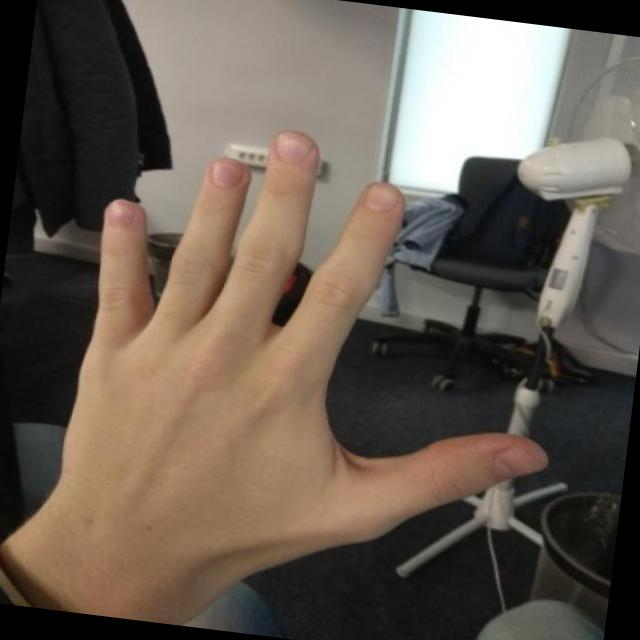Nail: (492, 445, 543, 478), (274, 131, 311, 165), (364, 183, 399, 210), (209, 160, 241, 188), (108, 199, 135, 230)
